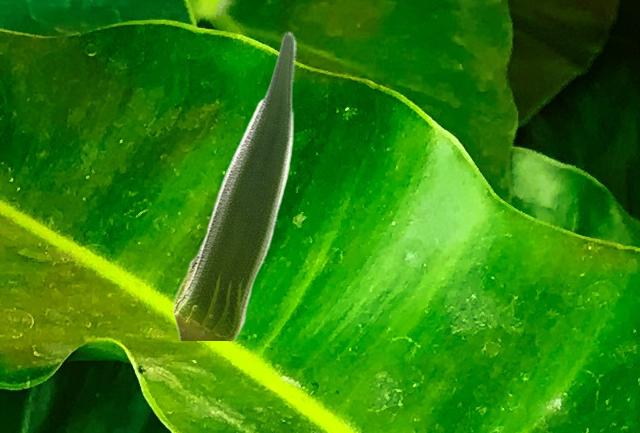okra: (172, 30, 295, 339)
